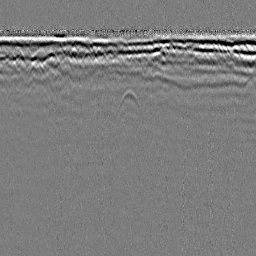cavity: (117, 86, 141, 109)
